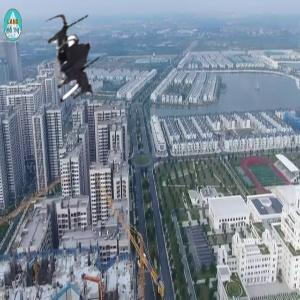drone: (22, 11, 126, 115)
